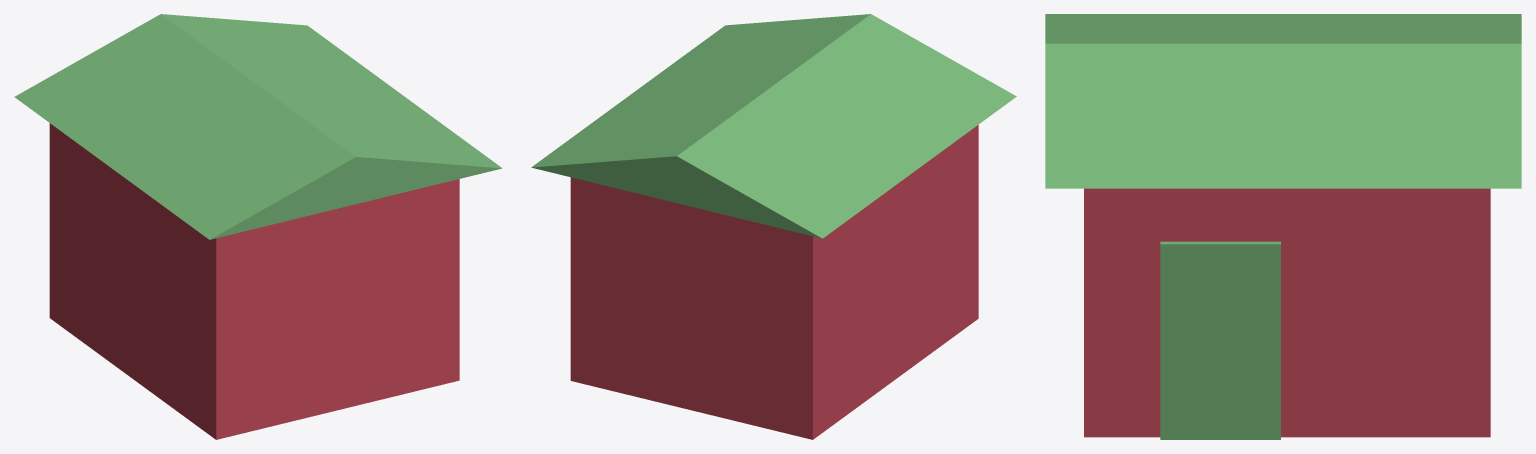
The model's file is Fantastic Gogo-Snicket (1).glb.
The picture shows the model from 3 angles, left to right: view 1: azimuth 30°, elevation 25°; view 2: azimuth 150°, elevation 25°; view 3: azimuth 270°, elevation 25°; orthographic projection. The views are drawn at different scales.
Visible parts, largest first — view 1: Mesh_Mesh_head_geo.001_lambert2SG.001; view 2: Mesh_Mesh_head_geo.001_lambert2SG.001; view 3: Mesh_Mesh_head_geo.001_lambert2SG.001.
Boxes of the visible parts, bbox=[...] form: Mesh_Mesh_head_geo.001_lambert2SG.001: bbox=[14, 14, 502, 439]; Mesh_Mesh_head_geo.001_lambert2SG.001: bbox=[531, 14, 1016, 439]; Mesh_Mesh_head_geo.001_lambert2SG.001: bbox=[1045, 14, 1521, 439].
Bounding box in the file's own units: 65 × 56 × 75.
